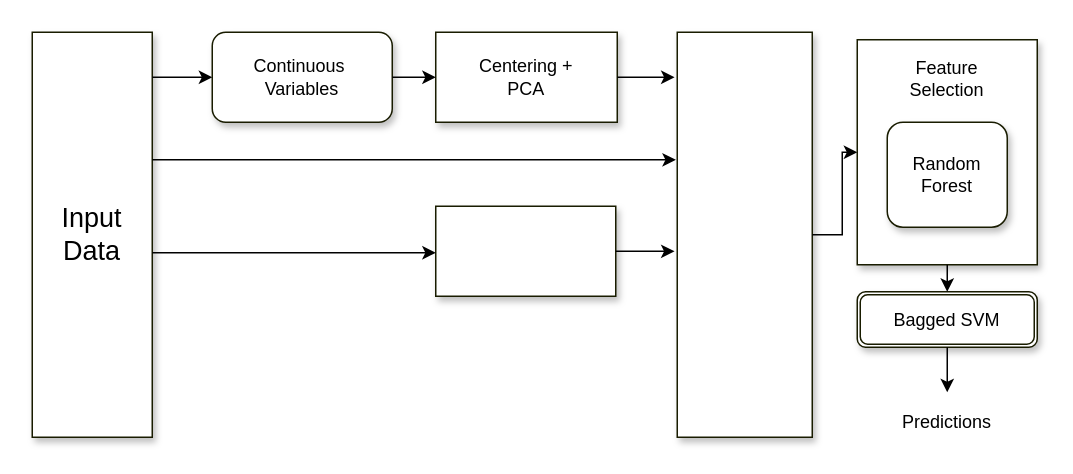
The diagram is 1073 pixels wide and 474 high, and some of its shapes have lost their labels. The shapes that lost their labels are listed below. From the top down, each one's centre as x and y in pixels, then its label:
At (x=526, y=253): "Target Transformation".
At (x=745, y=236): "Stacking".
